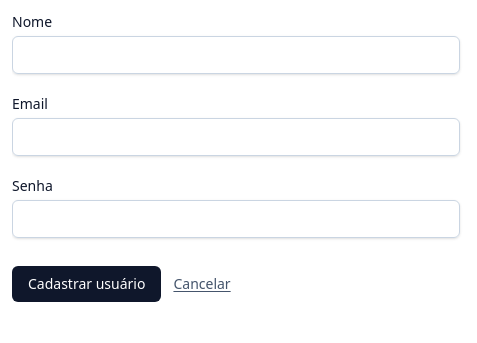
CadastroUsuarioForm — o campo de senha › senha vazia pede a senha, não acusa comprimento
Type "Maria Silva" into the field labelled "Nome" at (236, 55), box [12,36,460,74]
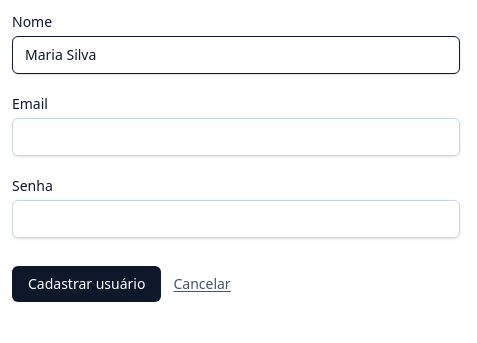
Type "maria@empresa.com" into the field labelled "Email" at (236, 137), box [12,118,460,156]
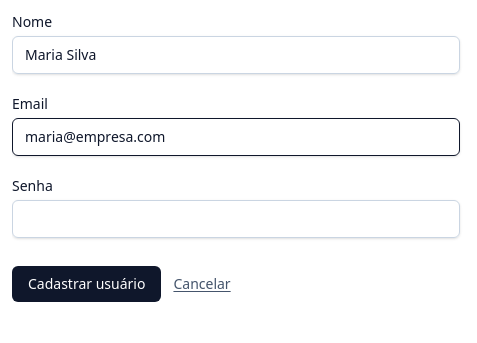
Click the button "Cadastrar usuário" at (87, 284), box [12,266,161,302]
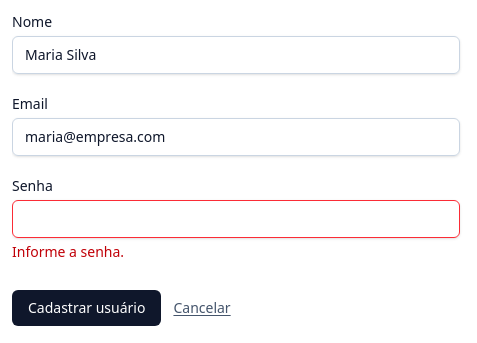
Now the text "Informe a senha." is shown, box [12,242,124,261]
